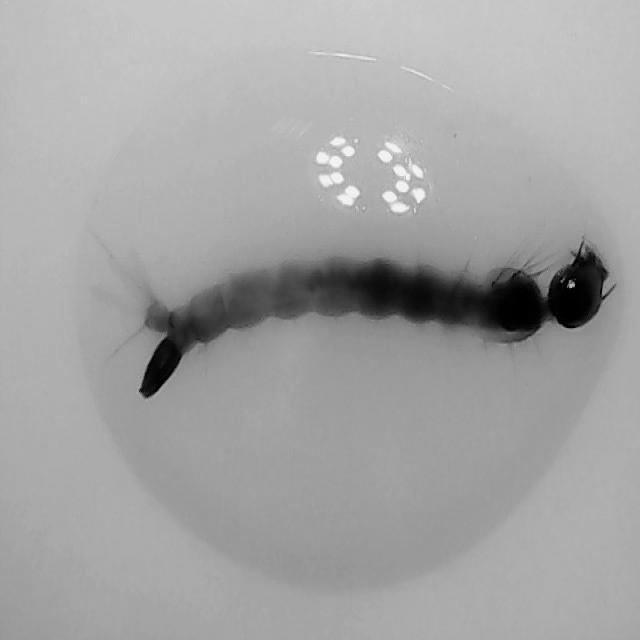larvas: (145, 248, 607, 395)
